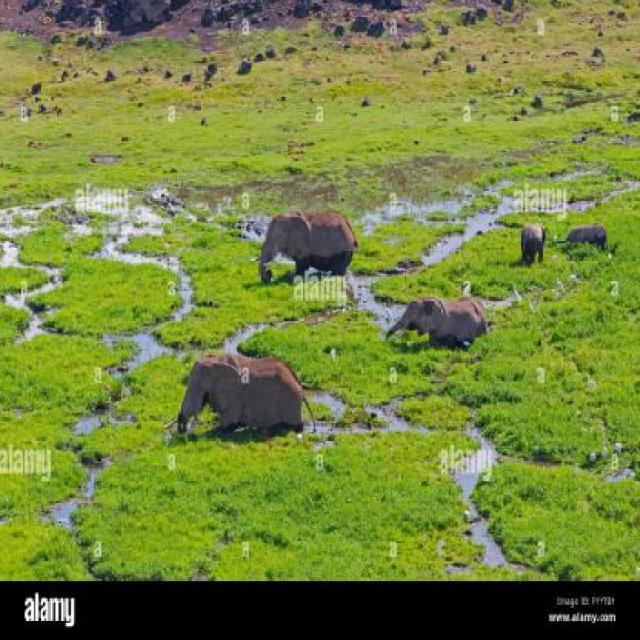elephant: (162, 342, 322, 448), (387, 278, 504, 359), (259, 202, 361, 292), (512, 212, 559, 270), (567, 210, 616, 256)
